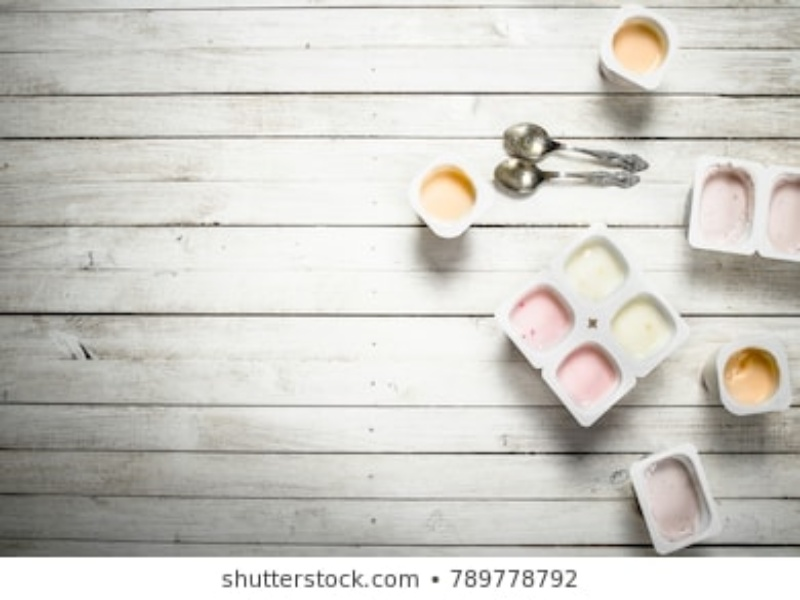yogurt-cup: (628, 442, 722, 557), (596, 286, 700, 375), (549, 220, 650, 311), (685, 147, 764, 262), (539, 342, 638, 432), (407, 151, 495, 242), (598, 6, 678, 100), (499, 277, 579, 370), (702, 335, 793, 414), (765, 163, 800, 259)
